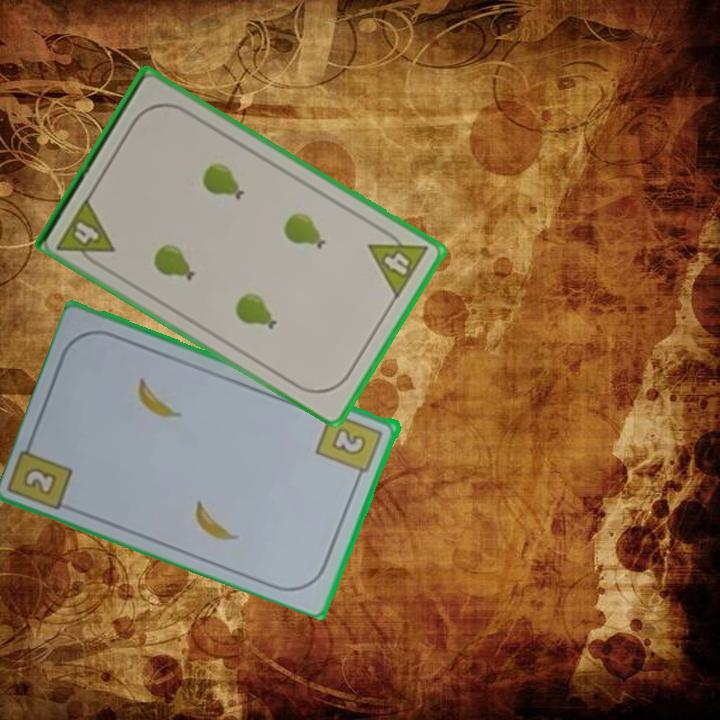2b: (313, 408, 386, 483), (22, 466, 61, 499)
4p: (365, 222, 431, 301), (53, 193, 118, 272)
